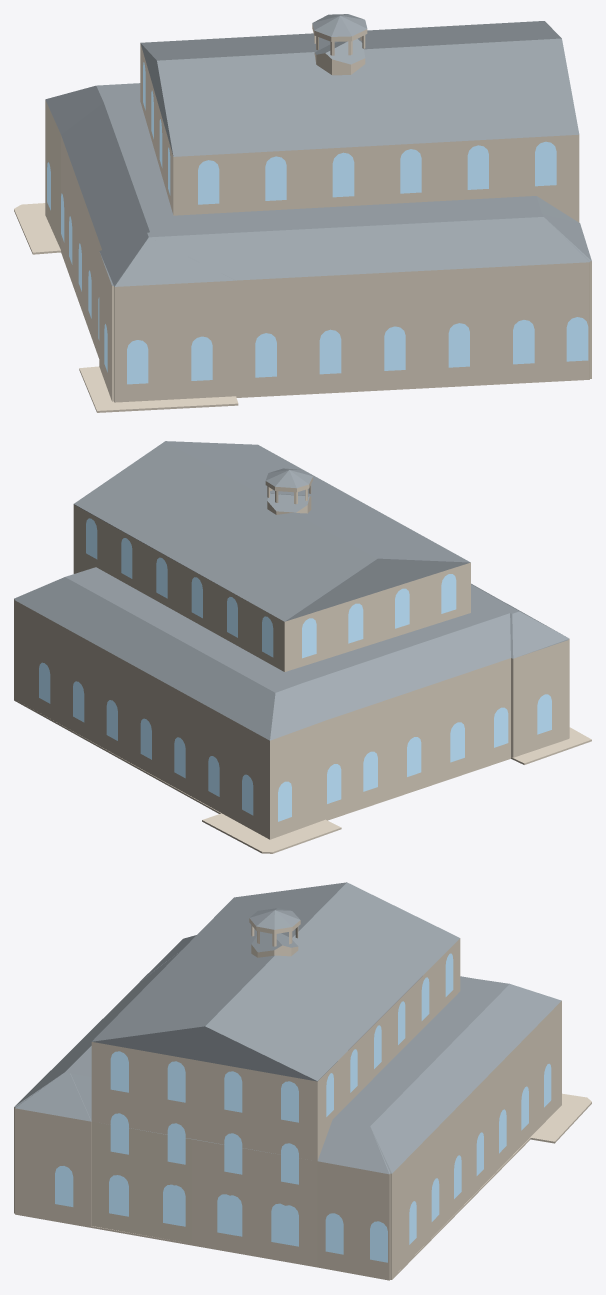
3 renders of one model, top to bottom at view 1: azimuth 30°, elevation 25°; view 2: azimuth 150°, elevation 25°; view 3: azimuth 270°, elevation 25°, orthographic. The views are drawn at different scales.
Parts seen in each view (by area): view 1: roof, stone, window; view 2: roof, stone, window; view 3: stone, roof, window.
Boxes of the visible parts, left/top/right/bottom form: roof: left=45, top=14, right=591, bottom=286; stone: left=14, top=24, right=591, bottom=412; window: left=47, top=62, right=588, bottom=384; roof: left=14, top=441, right=569, bottom=740; stone: left=14, top=477, right=591, bottom=853; window: left=39, top=518, right=551, bottom=821; stone: left=14, top=918, right=591, bottom=1280; roof: left=14, top=882, right=561, bottom=1174; window: left=55, top=953, right=551, bottom=1262.
Size of the model in its own units: 59.38 by 29 by 59.15.
